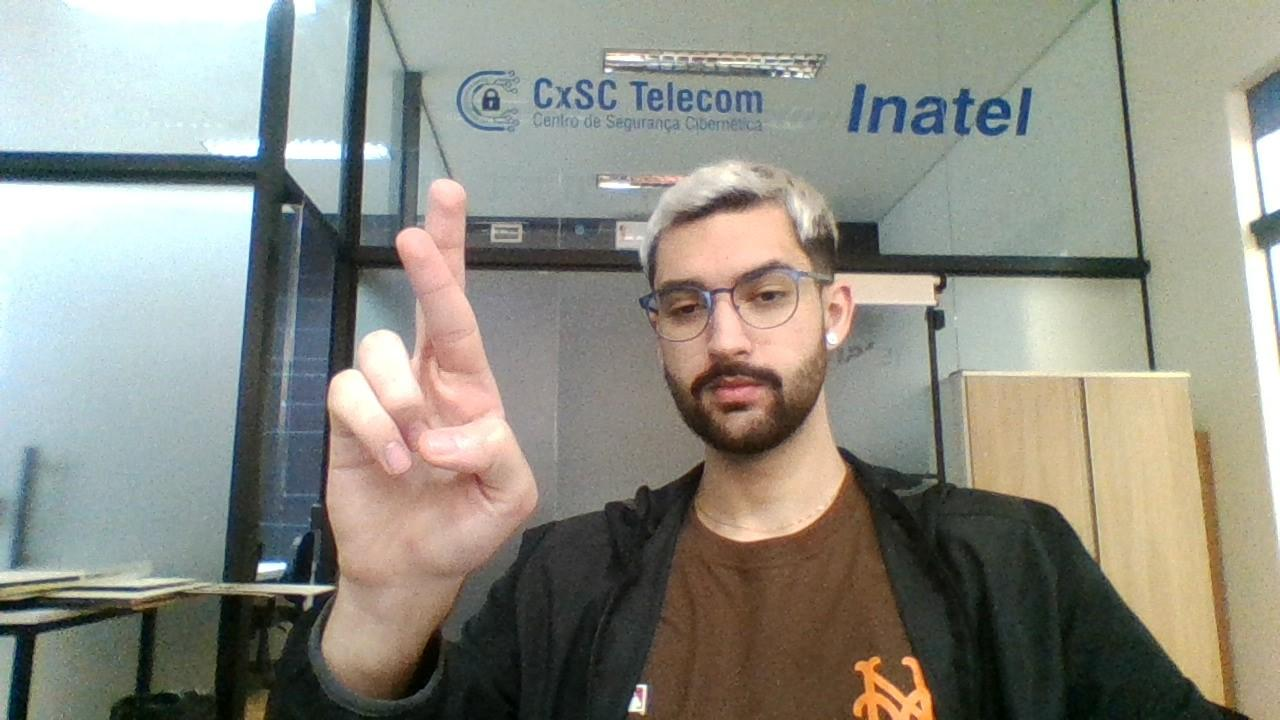R: (304, 178, 544, 608)
